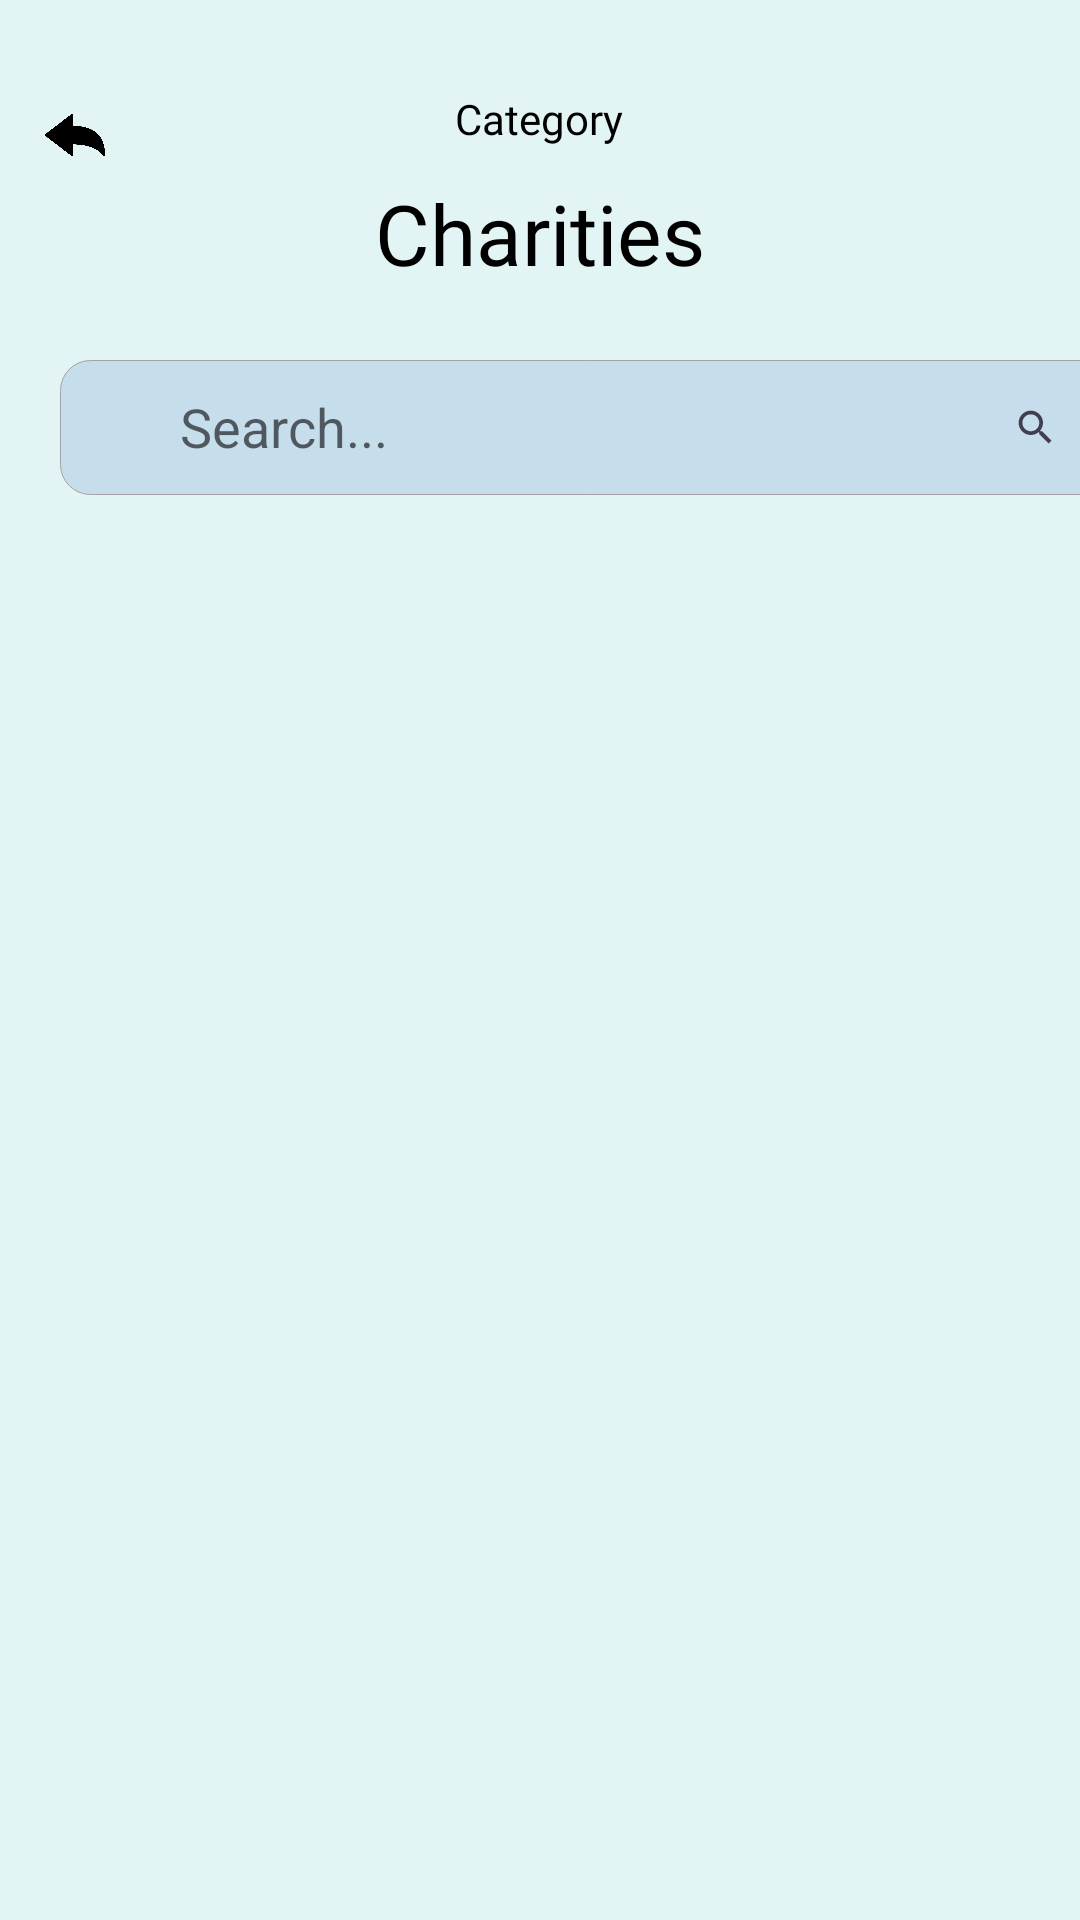

Named icons in this screenshot (1080 x 1920) and their centers, (x,y):
back: (75,135)
